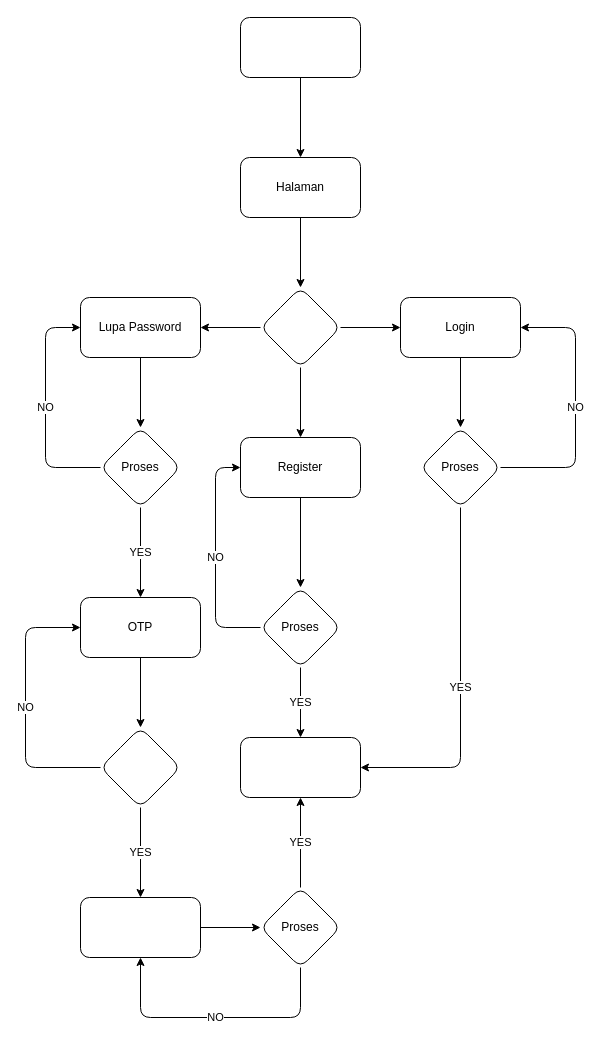
Some shapes in this 601 by 1043 pixel diagram are drawn without their labels. The shapes that lost their labels are listed below. From the top down, each one's centre as x and y in pixels, then its label:
At point 300,47: "User".
At point 300,327: "Pilihan".
At point 140,767: "Verifiikasi OTP".
At point 300,767: "End".
At point 140,927: "Password changed".
